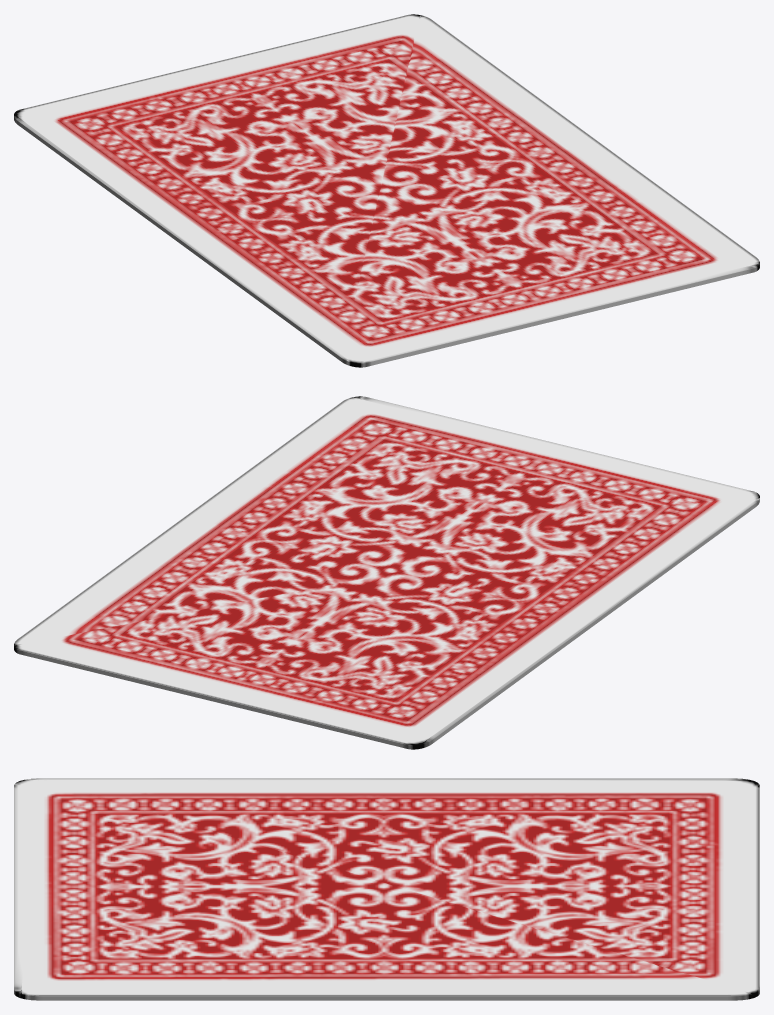
File: Diamond_8.fbx
3 views of the same model, one above another, from view 1: azimuth 30°, elevation 25°; view 2: azimuth 150°, elevation 25°; view 3: azimuth 270°, elevation 25° (orthographic). The views are drawn at different scales.
Visible parts, largest first — view 1: Card_Diamond; view 2: Card_Diamond; view 3: Card_Diamond.
Part boxes in pixels (x1,y1,x2,y2): Card_Diamond: (14,14,759,367); Card_Diamond: (14,396,759,749); Card_Diamond: (14,778,759,1000).
Bounding box in the file's own units: 8.6 × 12.45 × 0.079.
